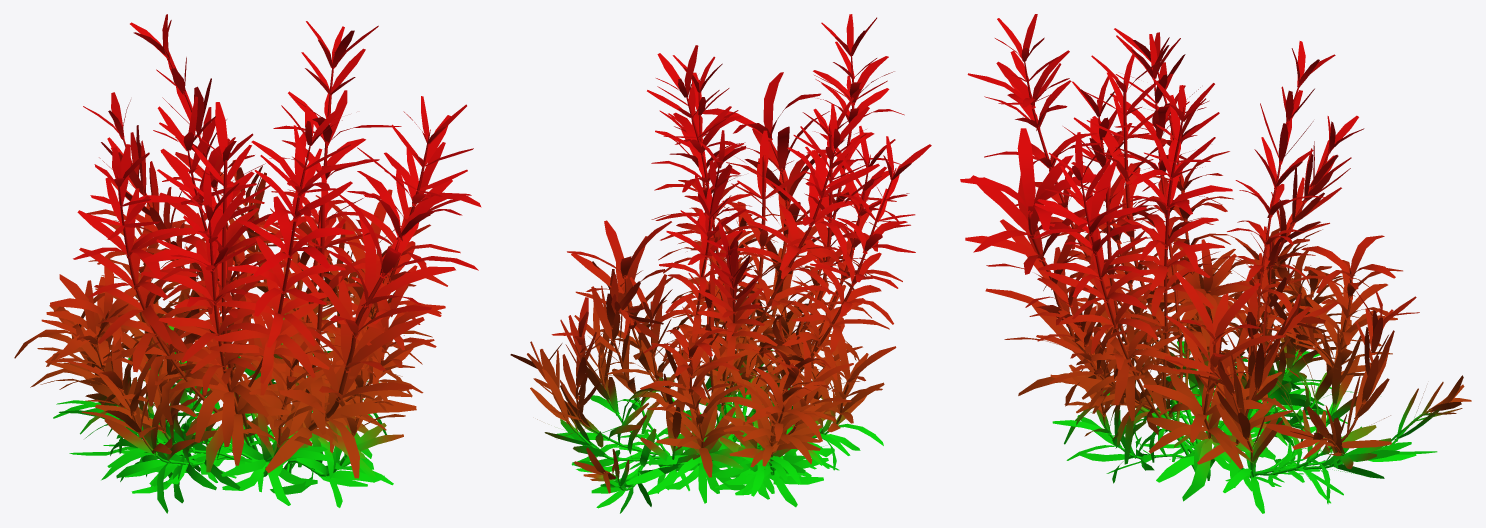
The model's file is Var5_LOD1.fbx.
3 renders of one model, left to right at view 1: azimuth 30°, elevation 25°; view 2: azimuth 150°, elevation 25°; view 3: azimuth 270°, elevation 25°, orthographic. The views are drawn at different scales.
Visible parts, largest first — view 1: _osvk_Var5_LOD1; view 2: _osvk_Var5_LOD1; view 3: _osvk_Var5_LOD1.
Part boxes in pixels (x1,y1,x2,y2): _osvk_Var5_LOD1: [14, 14, 481, 513]; _osvk_Var5_LOD1: [510, 14, 931, 513]; _osvk_Var5_LOD1: [960, 14, 1471, 513].
Bounding box in the file's own units: 27.08 × 30.08 × 32.83.
